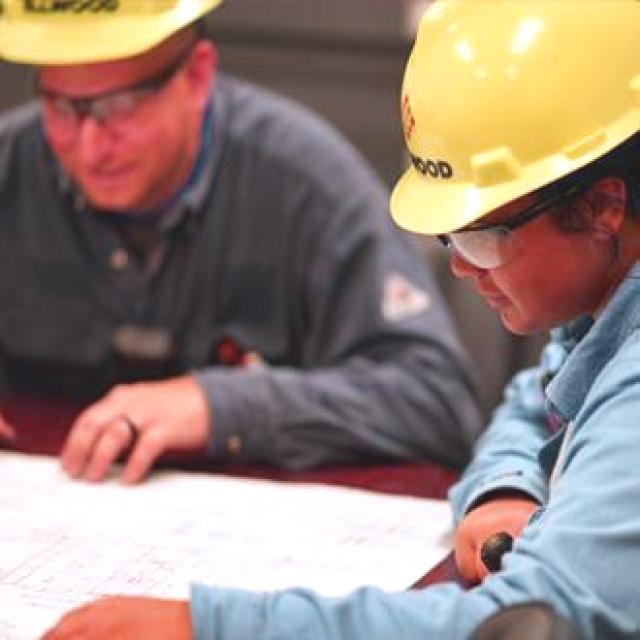face_nomask: (27, 64, 202, 219), (433, 194, 607, 335)
glasses: (28, 73, 181, 156), (428, 217, 524, 281)
hand_noglove: (58, 357, 221, 487)
head_helmet: (372, 4, 640, 219), (2, 2, 262, 72)
person: (289, 12, 640, 628), (0, 0, 438, 442)
